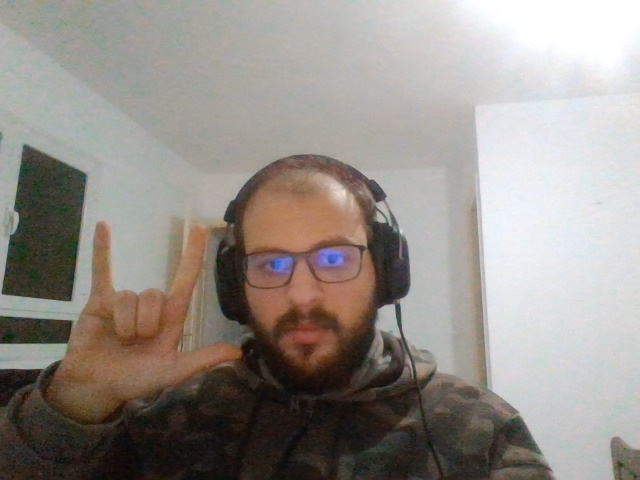I Love You: (82, 219, 237, 393)
